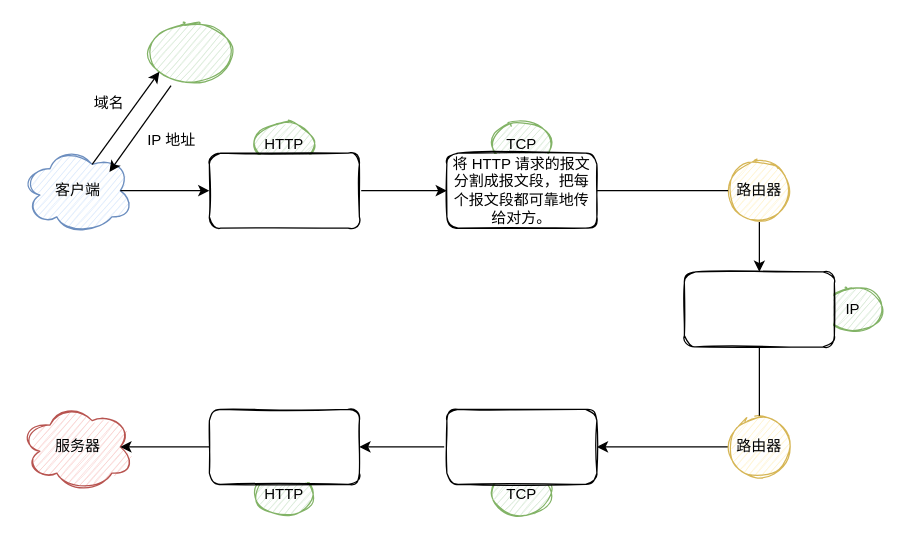
This 906x538 diagram has some shape labels left out. The shapes that lost their labels are listed below. From the top down, each one's centre as x and y in pixels, then its label:
At point 190,52: "DNS".
At point 283,190: "生成对目 标服务器的 HTTP 请求报文".
At point 758,309: "搜索对方地址，一边中转一边传".
At point 283,446: "对 Web 服务器请求的内容的处理".
At point 521,446: "以原来的顺序重组到达的报文段".
